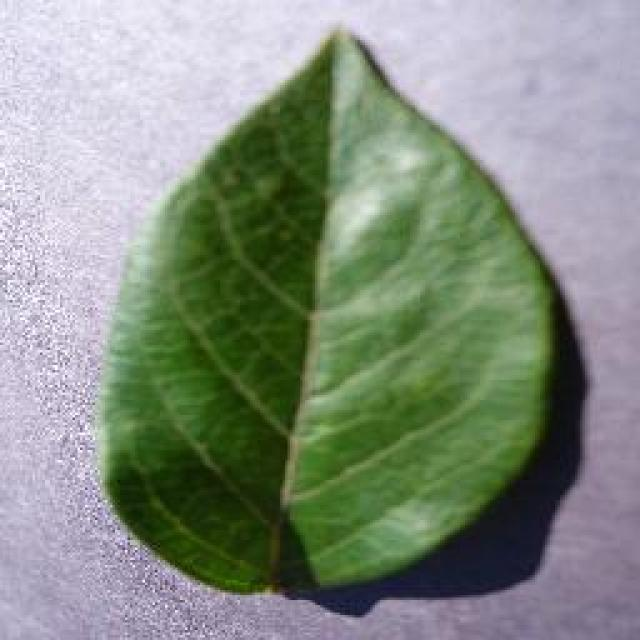Blu_healthy: (137, 127, 512, 548)
